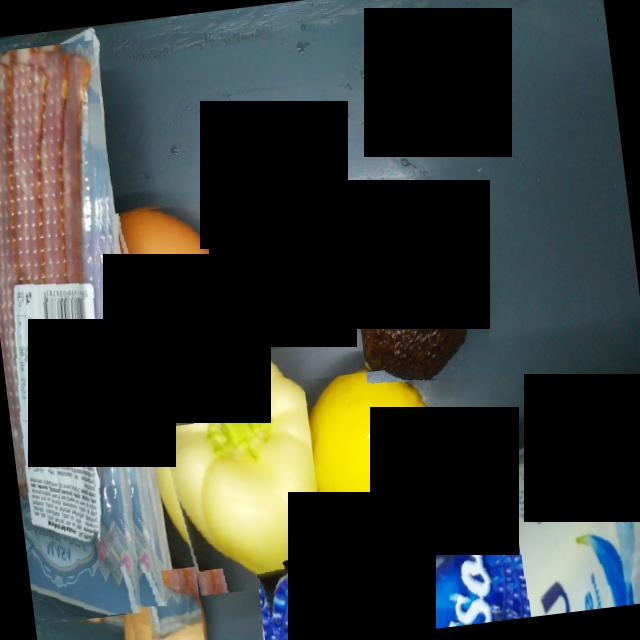avocado: (346, 200, 494, 387)
bacon: (0, 39, 162, 625)
cheese: (132, 327, 194, 424)
eggs: (228, 227, 346, 340), (112, 202, 217, 322), (117, 566, 206, 640)
lemon: (294, 364, 442, 546)
milk: (479, 405, 640, 620)
pepper: (142, 340, 328, 600)
yogurt: (376, 489, 523, 634), (255, 546, 393, 640)
